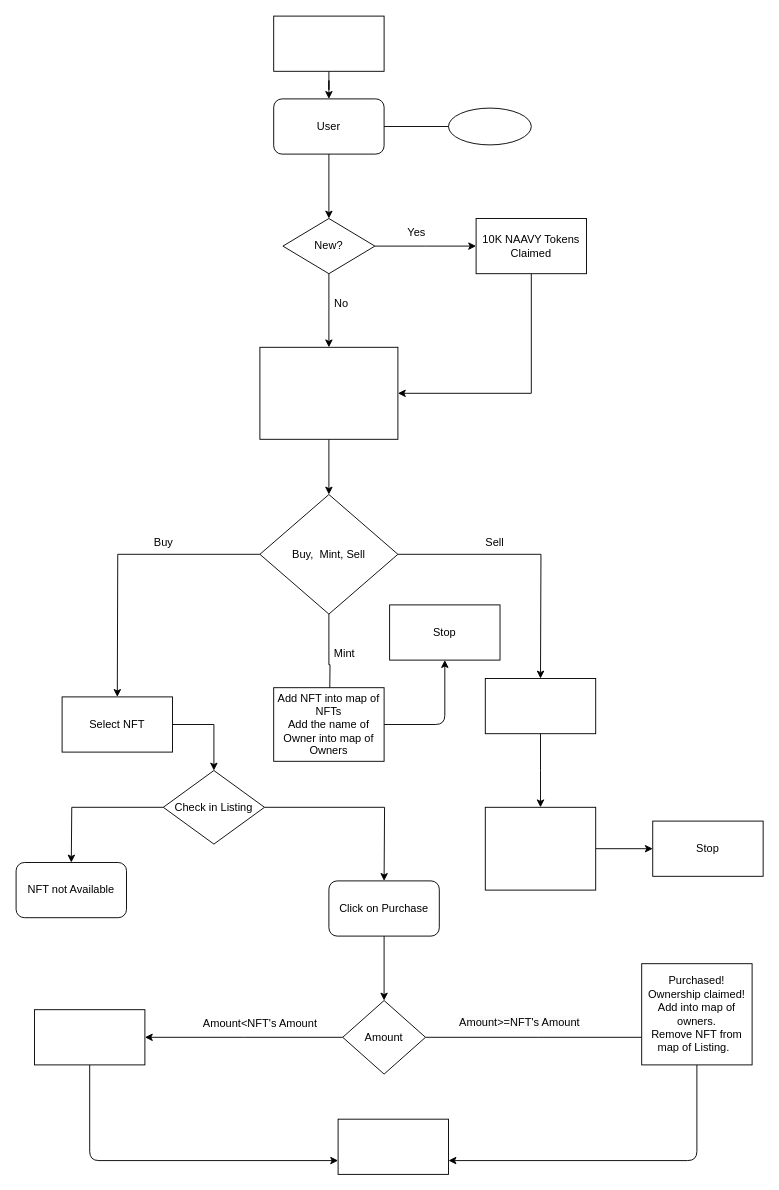
Image size: 779x1190. Some labels were removed from this diagram. The shapes that lost their labels are listed below. From the top down, each one's centre as x and y in pixels, then its label:
At (x=328, y=43): "Start".
At (x=489, y=126): "Principal".
At (x=328, y=392): "Naavy Mint".
At (x=540, y=706): "Select NFT from own collection".
At (x=540, y=848): "Remove ownership form the map of owners! NFT add into map of Listing".
At (x=89, y=1037): "Insufficient Balance".
